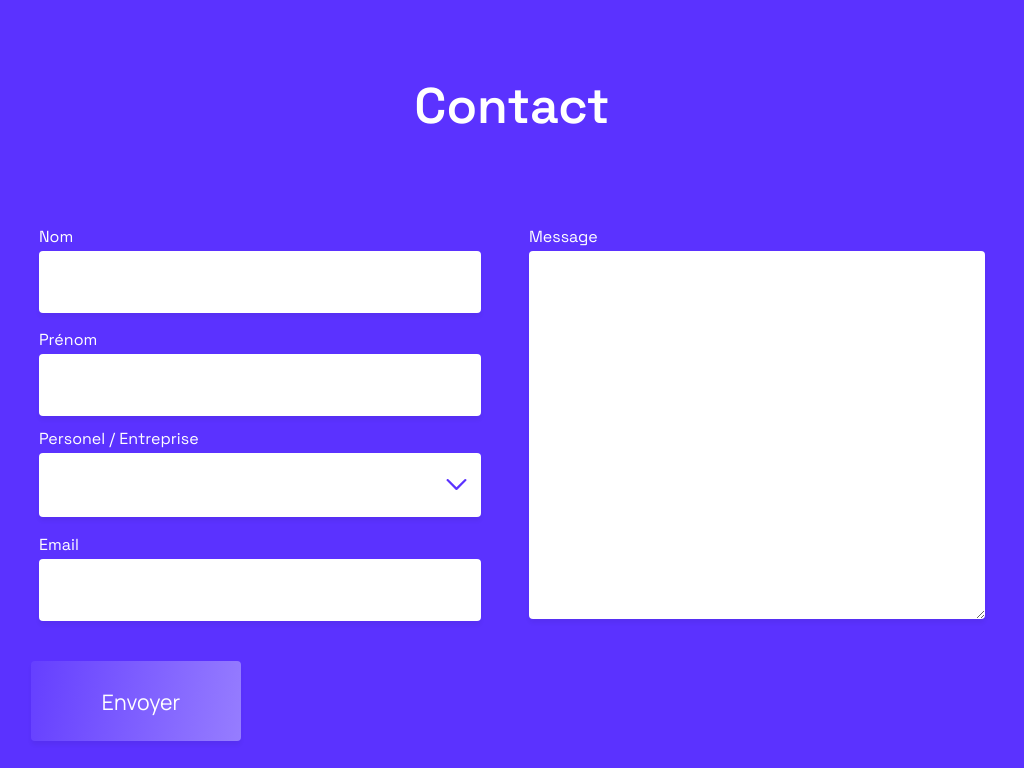
Test case: Contact form › should show success message after form submission
(page scrolled)
Type "Dupont" into the 1st field at [260, 282], box [39,251,481,313]
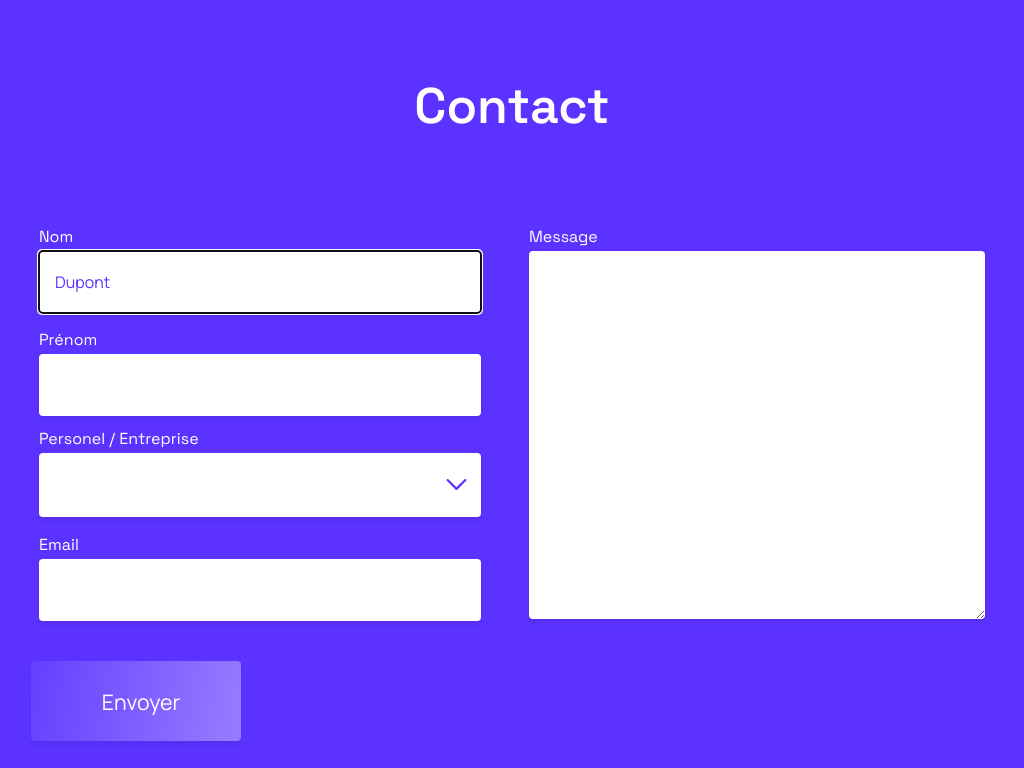
Type "Jean" into the field below "Prénom" at [260, 385], box [39,354,481,416]
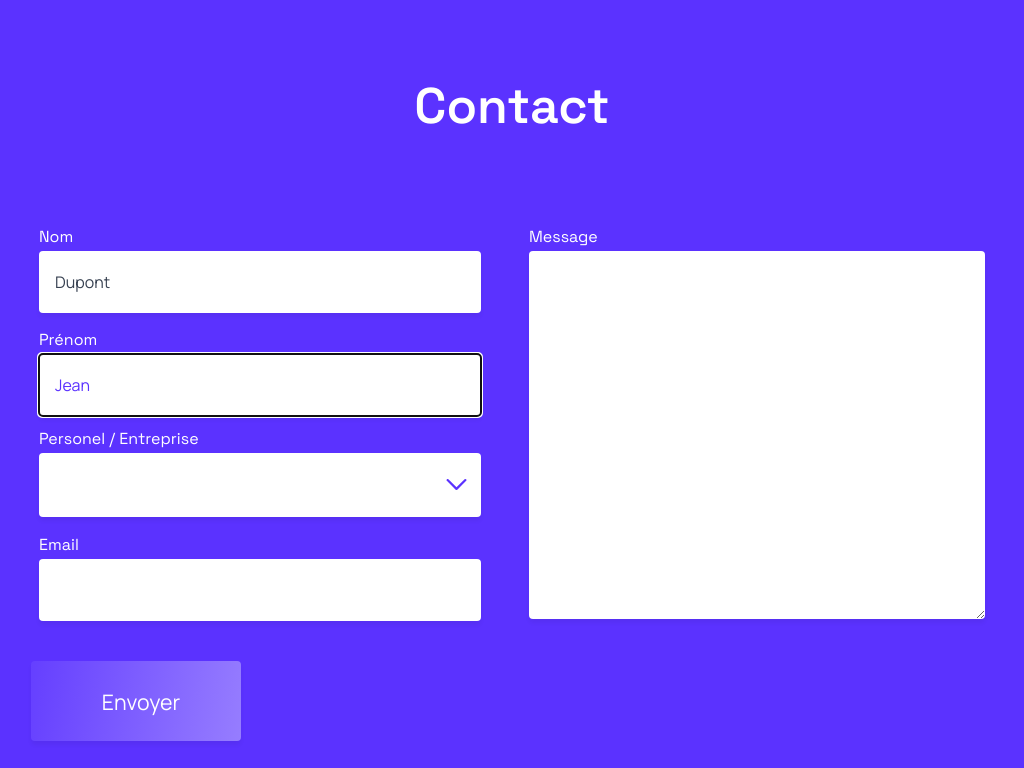
Type "jean.dupont@email.com" into the field below "Email" at [260, 590], box [39,559,481,621]
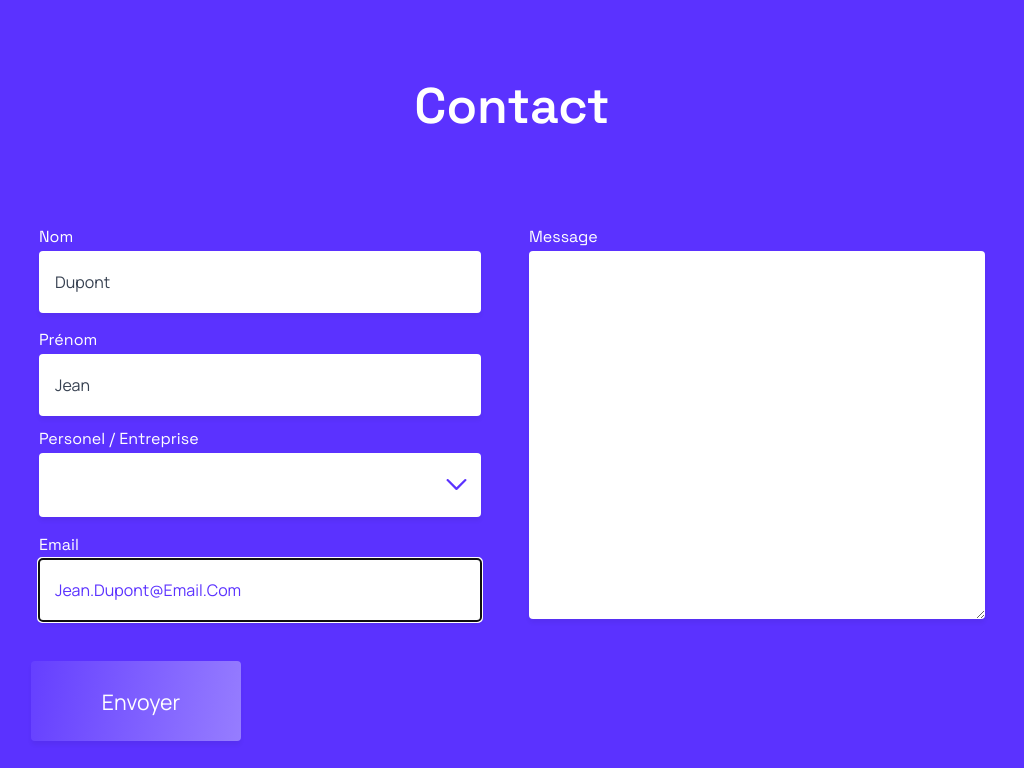
Type "Bonjour, je souhaite vous contacter." into the text box at [757, 435], box [529,251,985,619]
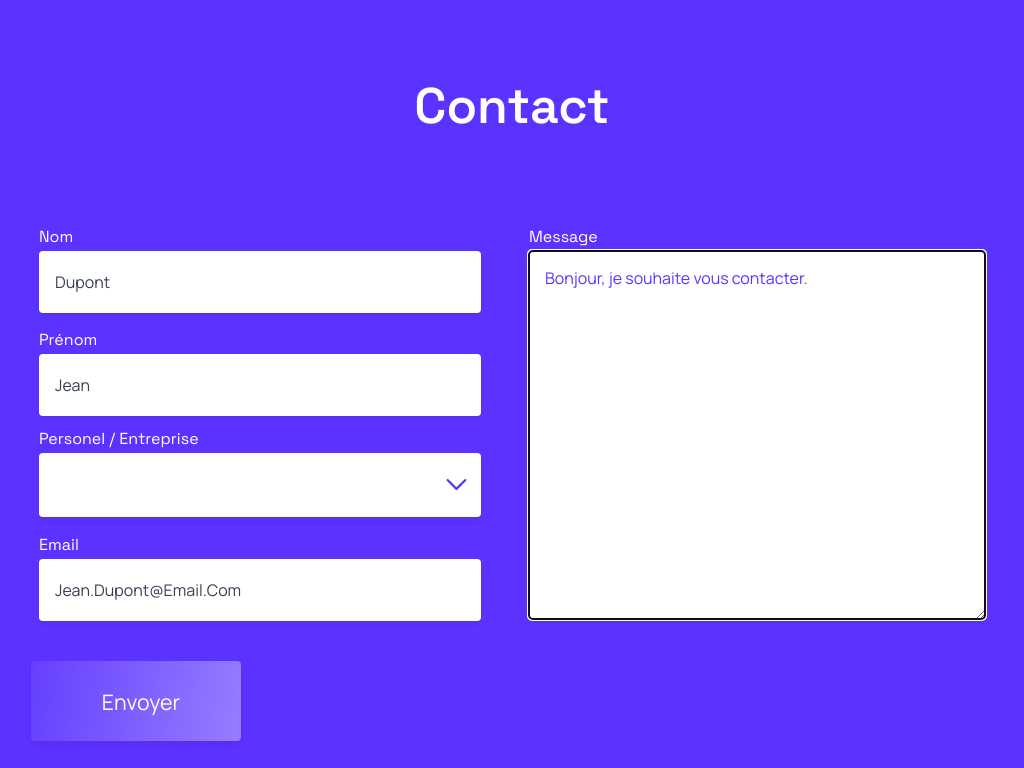
Click the button "Envoyer" at [136, 701], box [31,661,241,741]
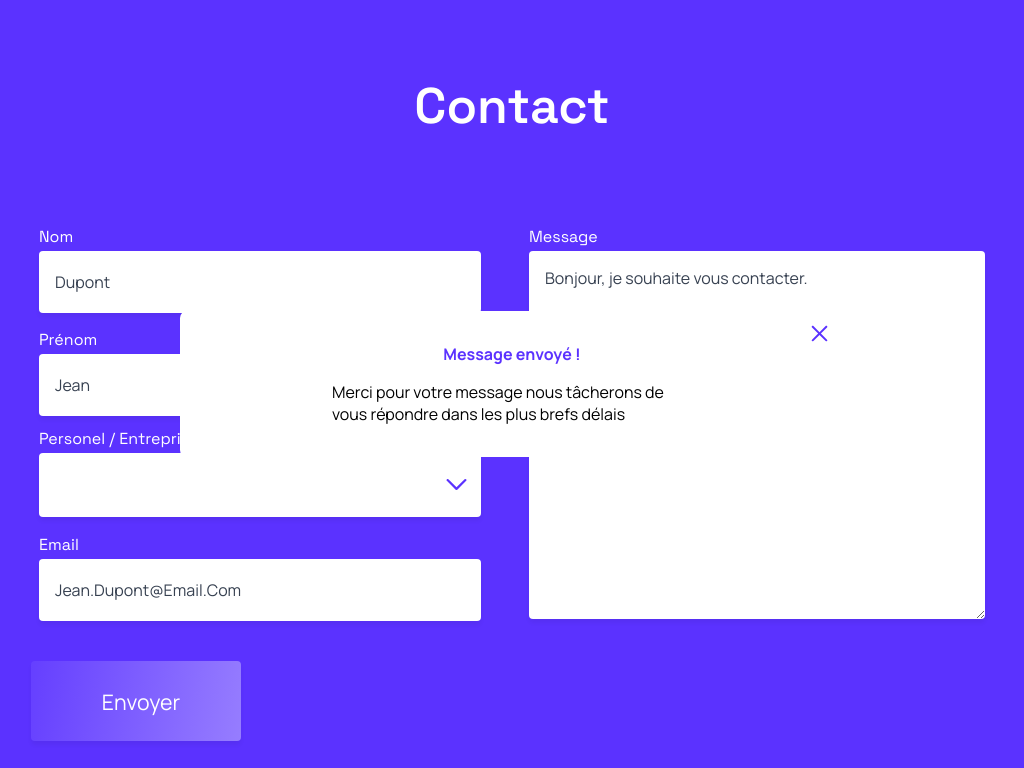
Check: the text "Message envoyé !" is shown, box [443,343,581,365]
Check: the text "Merci pour votre message" is shown, box [332,381,664,425]
